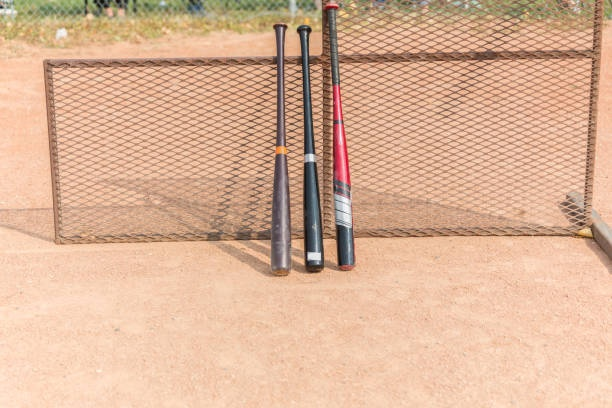bita: (269, 21, 295, 279), (328, 8, 354, 266), (300, 19, 326, 277)
